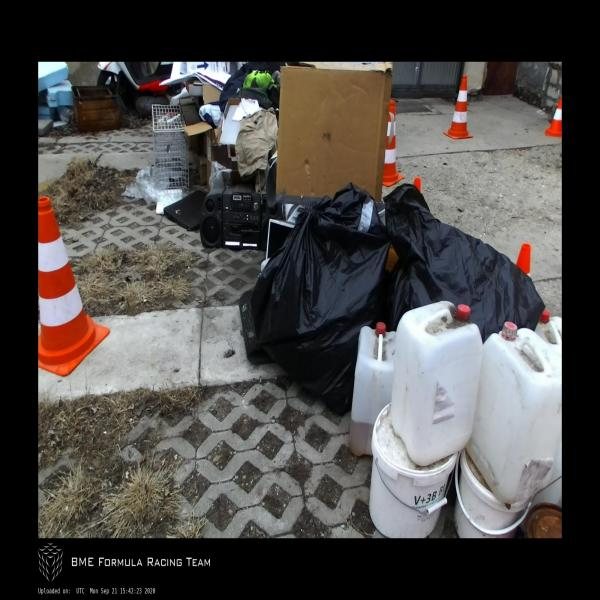large_orange_cone: (38, 196, 110, 376), (442, 74, 473, 140), (383, 100, 404, 190)
orange_cone: (546, 97, 562, 137), (517, 242, 532, 272)
